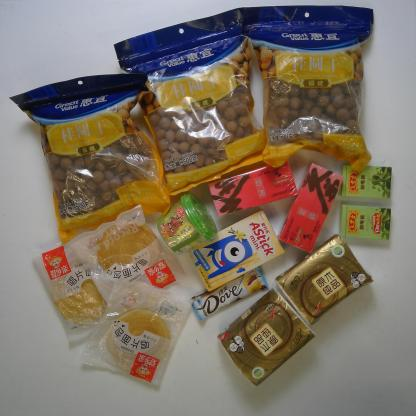Candy: (338, 163, 393, 201), (337, 204, 392, 242)
Chocolate: (187, 264, 270, 321)
Dessert: (64, 204, 193, 319), (78, 277, 199, 392), (32, 238, 151, 344), (184, 208, 286, 293)
Dried Food: (113, 4, 283, 197), (8, 71, 172, 249), (238, 2, 376, 173)
Instant Drink: (275, 160, 345, 254), (206, 158, 298, 218), (155, 192, 219, 256)
Tissue: (216, 286, 316, 389), (274, 234, 376, 328)
